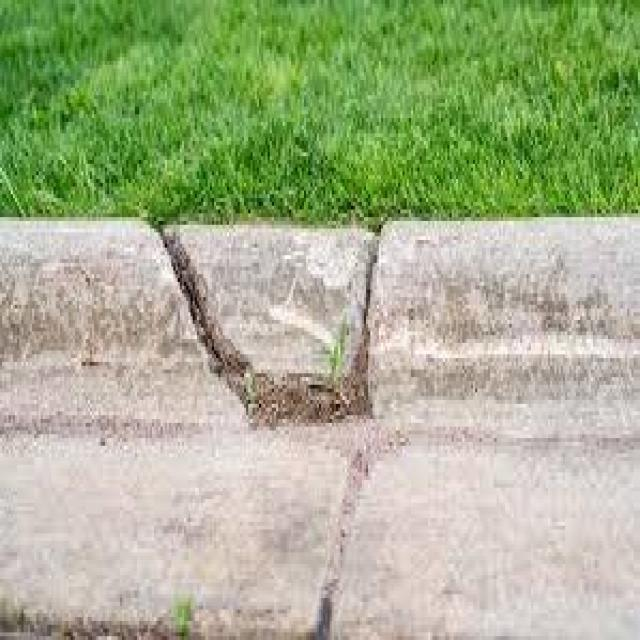bump: (6, 185, 640, 480)
